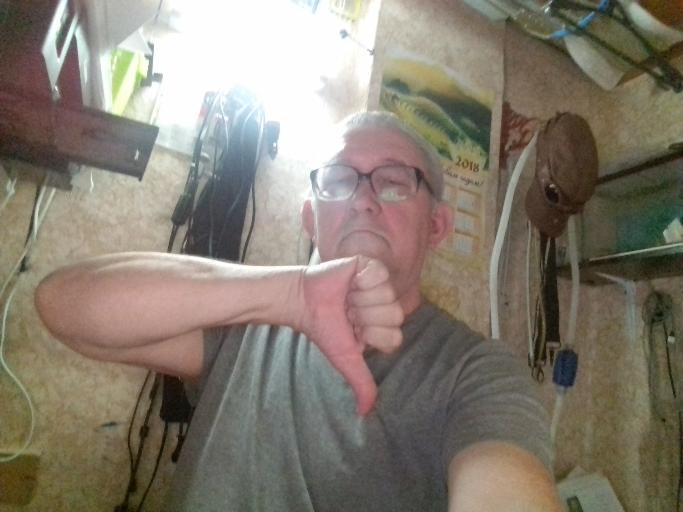dislike: (296, 252, 408, 418)
